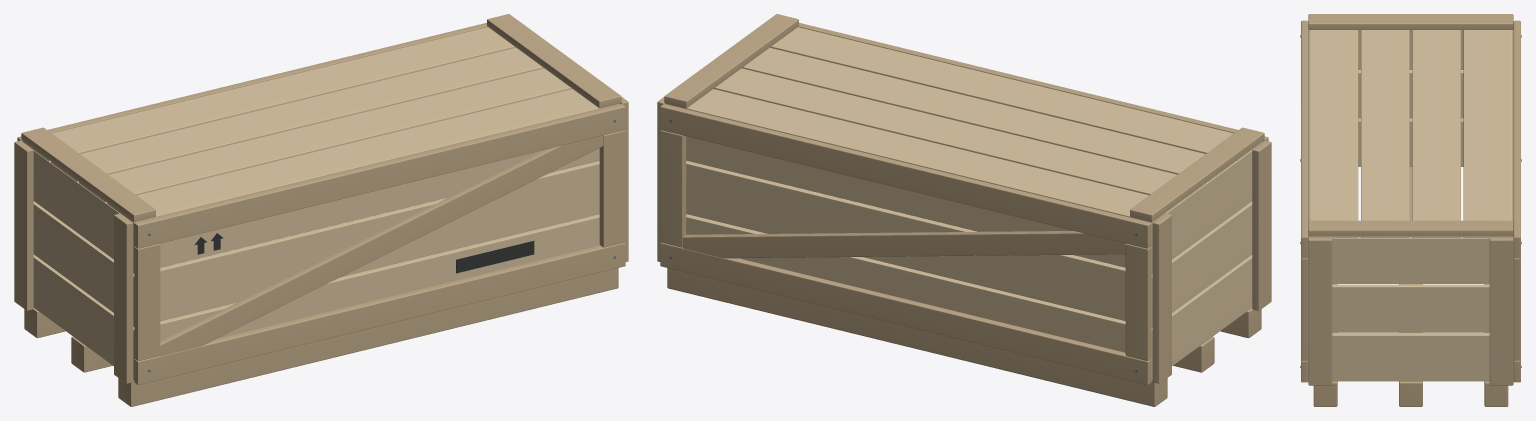
File: industrial.yard.crate_wood_long.glb
The picture shows the model from 3 angles, left to right: view 1: azimuth 30°, elevation 25°; view 2: azimuth 150°, elevation 25°; view 3: azimuth 270°, elevation 25°; orthographic projection. The views are drawn at different scales.
Parts seen in each view (by area): view 1: main__timber_dca, main__timber_ca8, main__paint_333; view 2: main__timber_dca, main__timber_ca8; view 3: main__timber_dca, main__timber_ca8.
Boxes of the visible parts, bbox=[...] form: main__timber_dca: bbox=[22, 27, 620, 380]; main__timber_ca8: bbox=[14, 14, 628, 406]; main__paint_333: bbox=[194, 233, 534, 273]; main__timber_dca: bbox=[665, 27, 1263, 380]; main__timber_ca8: bbox=[657, 14, 1271, 406]; main__timber_dca: bbox=[1308, 29, 1513, 381]; main__timber_ca8: bbox=[1301, 14, 1520, 406].
Size of the model in its own units: 1.54 by 0.572 by 0.647.
